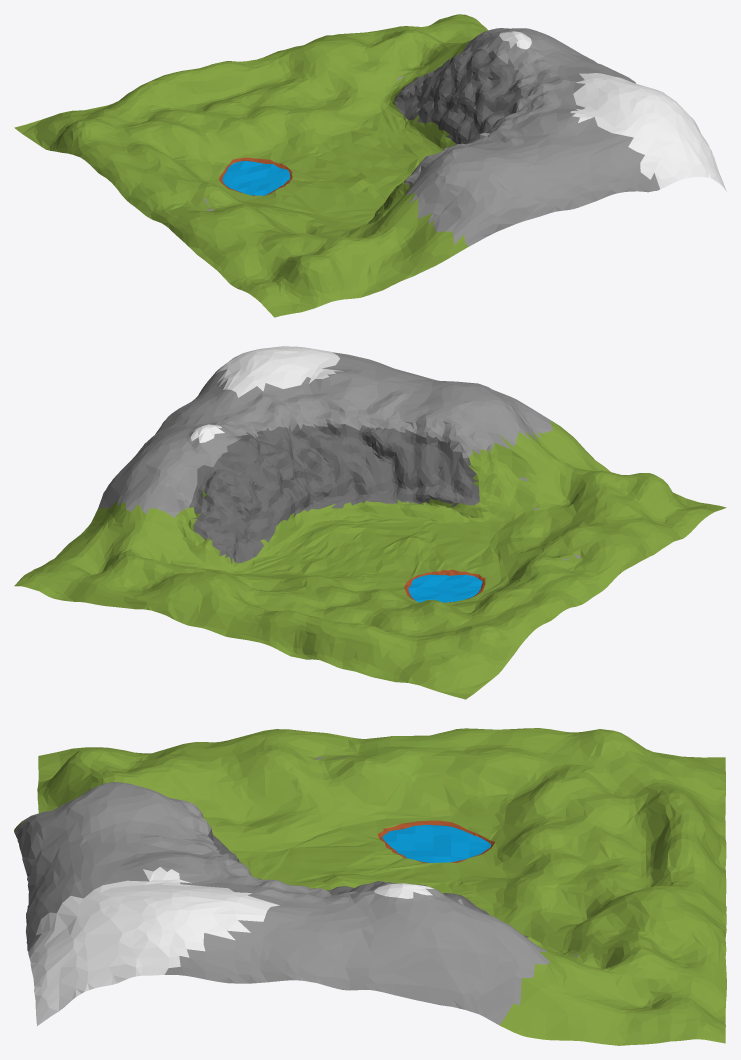
File: Terrain.fbx
The picture shows the model from 3 angles, top to bottom: view 1: azimuth 30°, elevation 25°; view 2: azimuth 150°, elevation 25°; view 3: azimuth 270°, elevation 25°; orthographic projection. The views are drawn at different scales.
Parts seen in each view (by area): view 1: Terrain; view 2: Terrain; view 3: Terrain.
Boxes of the visible parts, bbox=[...] form: Terrain: bbox=[14, 14, 726, 317]; Terrain: bbox=[14, 346, 726, 699]; Terrain: bbox=[14, 728, 726, 1045].
Size of the model in its own units: 341 by 69.62 by 346.
